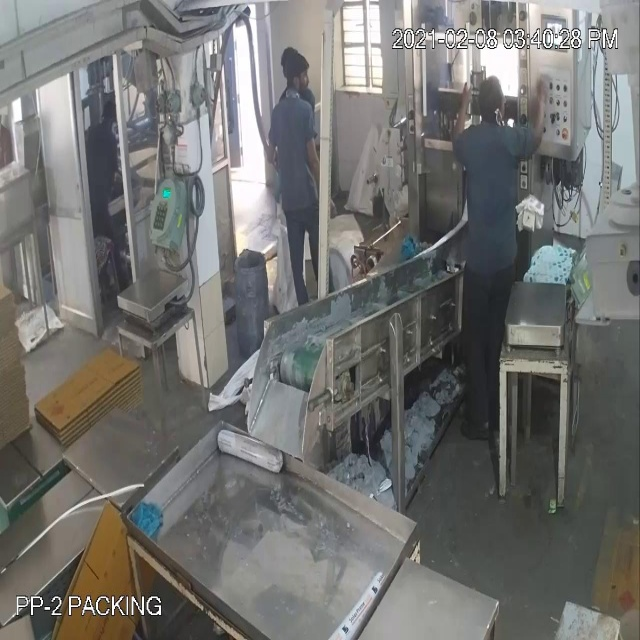Sin_guantes: (520, 66, 552, 156), (443, 77, 470, 156)
